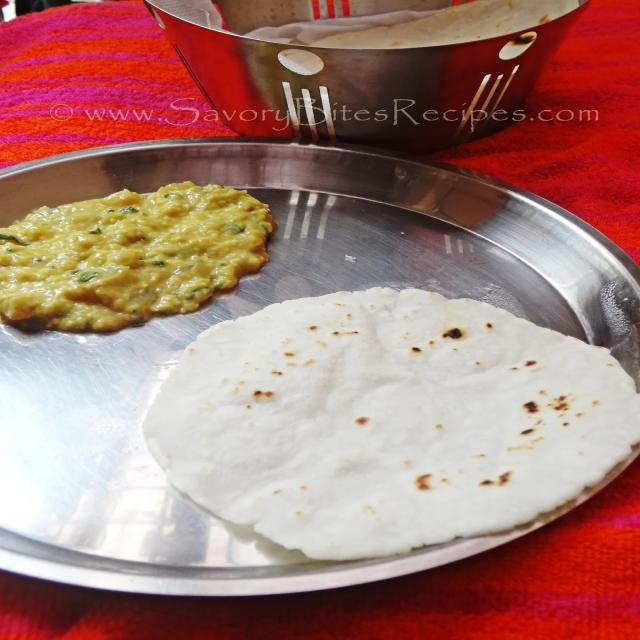RICE BHAKRI: (145, 288, 639, 559)
